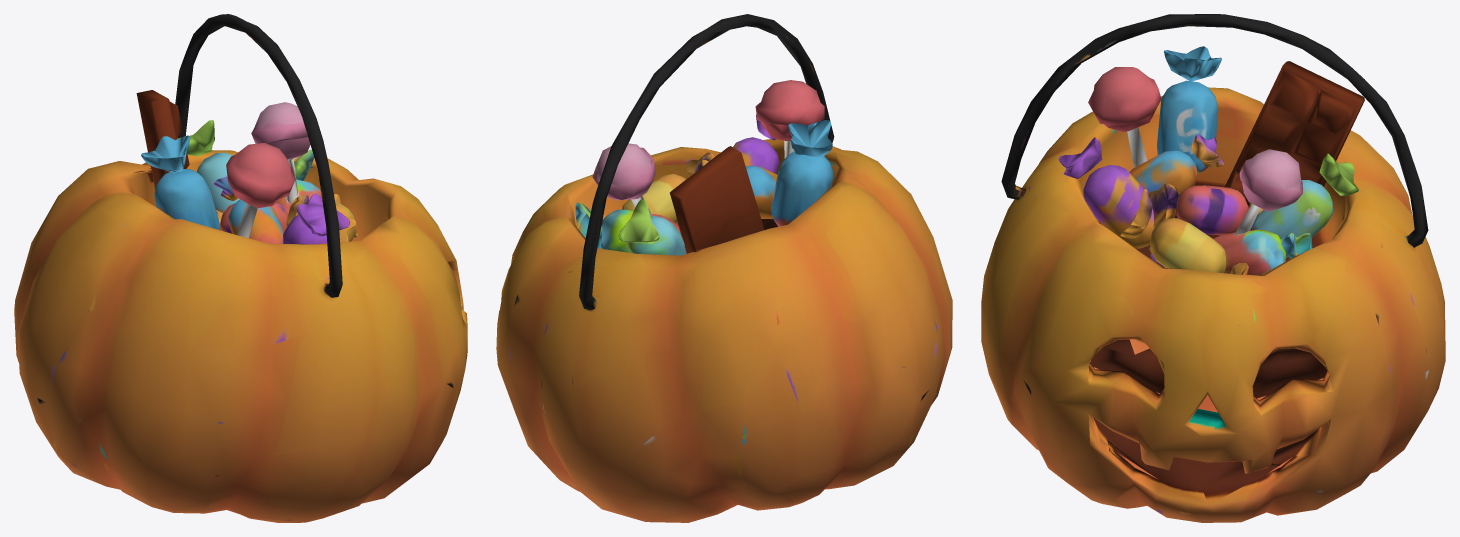
The model's file is S2_CandyBucket_LOD2.fbx.
3 renders of one model, left to right at view 1: azimuth 30°, elevation 25°; view 2: azimuth 150°, elevation 25°; view 3: azimuth 270°, elevation 25°, orthographic. The views are drawn at different scales.
Parts seen in each view (by area): view 1: PART_Bucket.001, PART_Candy_02.001, PART_Candy_07.001, PART_Candy_03.001, PART_Candy_04.001, PART_Candy_10.001, PART_Candy_14.001, PART_Candy_11.001, PART_Candy_17.001, PART_Candy_12.001, PART_Candy_22.001; view 2: PART_Bucket.001, PART_Candy_04.001, PART_Candy_07.001, PART_Candy_02.001, PART_Candy_03.001, PART_Candy_14.001, PART_Candy_11.001, PART_Candy_09.001, PART_Candy_22.001, PART_Candy_10.001, PART_Candy_12.001, PART_Candy_06.001; view 3: PART_Bucket.001, PART_Candy_04.001, PART_Candy_02.001, PART_Candy_07.001, PART_Candy_03.001, PART_Candy_12.001, PART_Candy_09.001, PART_Candy_08.001, PART_Candy_11.001, PART_Candy_06.001, PART_Candy_10.001, PART_Candy_14.001 (+6 smaller).
Boxes of the visible parts, x1,y1,x2,y2 form: PART_Bucket.001: (14,14,467,522); PART_Candy_02.001: (226,143,294,238); PART_Candy_07.001: (154,169,219,229); PART_Candy_03.001: (251,102,310,203); PART_Candy_04.001: (136,90,189,189); PART_Candy_10.001: (228,199,284,243); PART_Candy_14.001: (141,135,190,172); PART_Candy_11.001: (197,152,239,213); PART_Candy_17.001: (296,194,349,236); PART_Candy_12.001: (283,215,327,244); PART_Candy_22.001: (177,120,214,156); PART_Bucket.001: (496,14,952,522); PART_Candy_04.001: (670,146,764,253); PART_Candy_07.001: (771,151,833,226); PART_Candy_02.001: (755,80,824,158); PART_Candy_03.001: (592,143,655,216); PART_Candy_14.001: (788,120,832,156); PART_Candy_11.001: (628,216,686,255); PART_Candy_09.001: (622,173,686,223); PART_Candy_22.001: (618,199,659,243); PART_Candy_10.001: (746,165,777,218); PART_Candy_12.001: (733,137,779,173); PART_Candy_06.001: (600,209,680,252); PART_Bucket.001: (981,14,1445,522); PART_Candy_04.001: (1225,61,1364,207); PART_Candy_02.001: (1088,67,1161,167); PART_Candy_07.001: (1156,80,1218,173); PART_Candy_03.001: (1234,149,1302,234); PART_Candy_12.001: (1083,165,1154,248); PART_Candy_09.001: (1150,218,1226,273); PART_Candy_08.001: (1176,185,1248,235); PART_Candy_11.001: (1252,180,1332,257); PART_Candy_06.001: (1213,229,1285,274); PART_Candy_10.001: (1129,150,1197,198); PART_Candy_14.001: (1164,46,1221,81).
Size of the model in its own units: 0.2263 by 0.2402 by 0.218.
25 materials, 25 textured.
